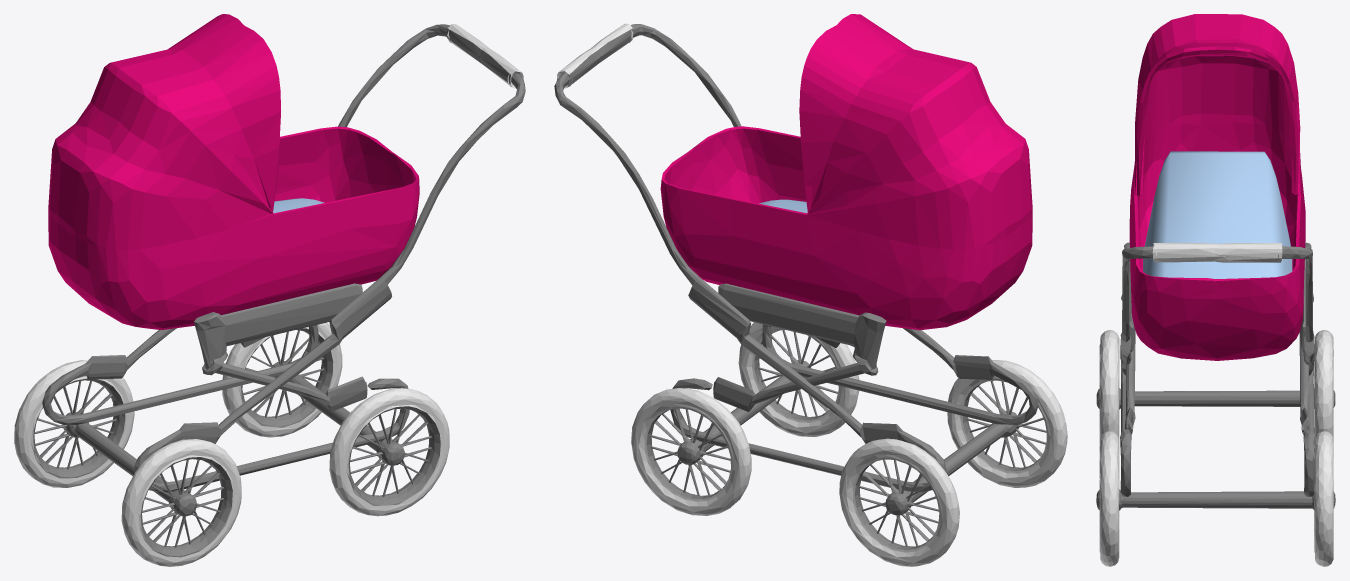
Rendered from pram-lowpoly.fbx.
The picture shows the model from 3 angles, left to right: view 1: azimuth 30°, elevation 25°; view 2: azimuth 150°, elevation 25°; view 3: azimuth 270°, elevation 25°; orthographic projection.
Visible parts, largest first — view 1: Cube, Torus.001; view 2: Cube, Torus.001; view 3: Cube, Torus.001, Plane.001.
Boxes of the visible parts, <box> form: Cube: <box>42,14,525,492</box>; Torus.001: <box>14,322,449,566</box>; Cube: <box>554,14,1038,491</box>; Torus.001: <box>631,322,1067,566</box>; Cube: <box>1120,14,1315,496</box>; Torus.001: <box>1096,330,1335,566</box>; Plane.001: <box>1143,151,1292,278</box>.
Bounding box in the file's own units: 197 × 208 × 95.94.
